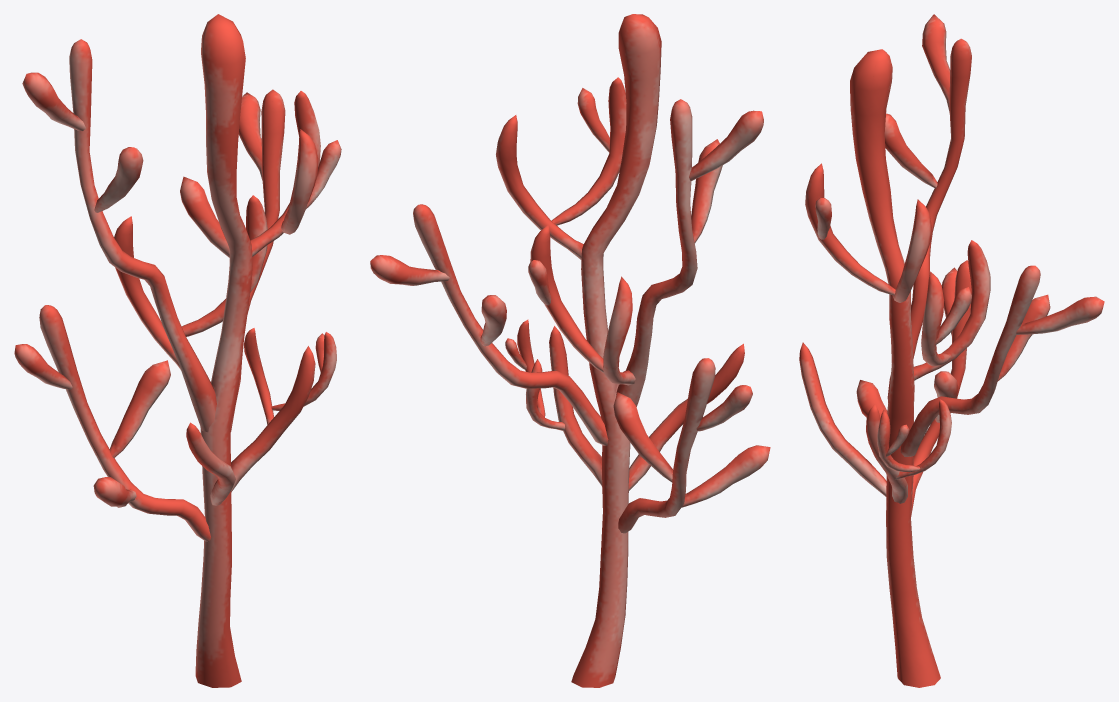
The model's file is Cartoon Seaweed_13-1-18.fbx.
3 views of the same model, side by side, from view 1: azimuth 30°, elevation 25°; view 2: azimuth 150°, elevation 25°; view 3: azimuth 270°, elevation 25° (orthographic). The views are drawn at different scales.
Parts seen in each view (by area): view 1: Cartoon Seaweed_13.1.18; view 2: Cartoon Seaweed_13.1.18; view 3: Cartoon Seaweed_13.1.18.
Part boxes in pixels (bbox=[...]): Cartoon Seaweed_13.1.18: bbox=[14, 14, 341, 687]; Cartoon Seaweed_13.1.18: bbox=[370, 14, 770, 687]; Cartoon Seaweed_13.1.18: bbox=[799, 14, 1104, 687].
Bounding box in the file's own units: 18.84 × 38.43 × 17.14.
Materials: 1 (1 with a texture image).
